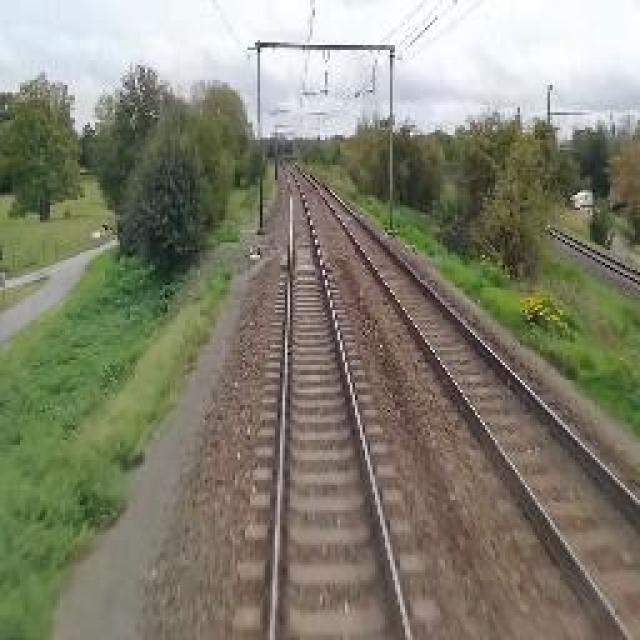rail: (238, 163, 456, 640)
